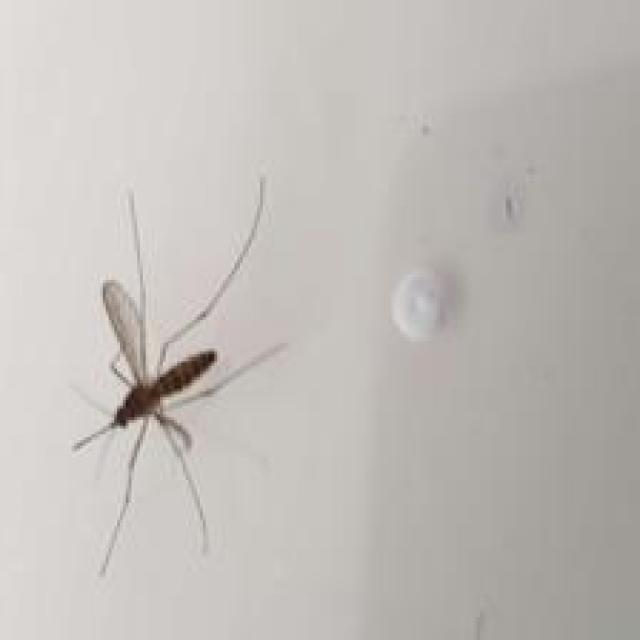Culex: (70, 173, 290, 576)
